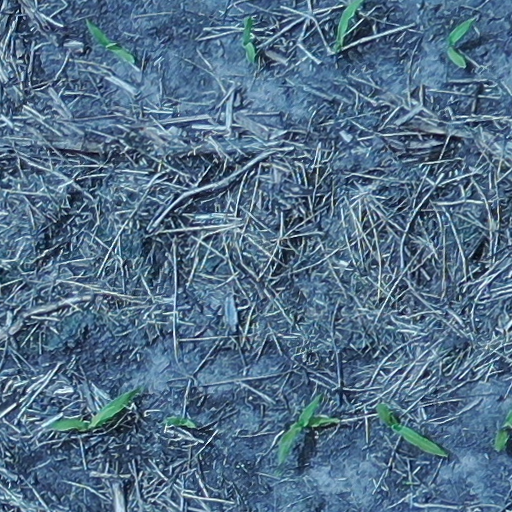planta: (279, 396, 340, 461), (49, 387, 141, 430), (376, 402, 445, 455), (87, 20, 135, 62), (448, 19, 474, 66), (243, 17, 255, 61), (164, 417, 195, 427)
